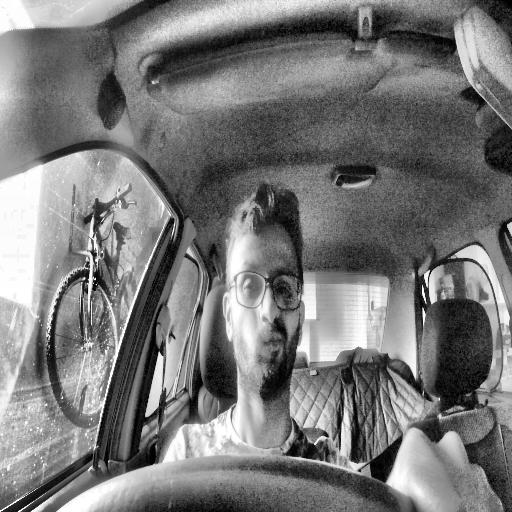drowsy: (222, 181, 307, 404)
